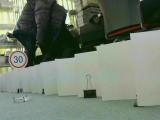speed_30: (9, 50, 28, 69)
